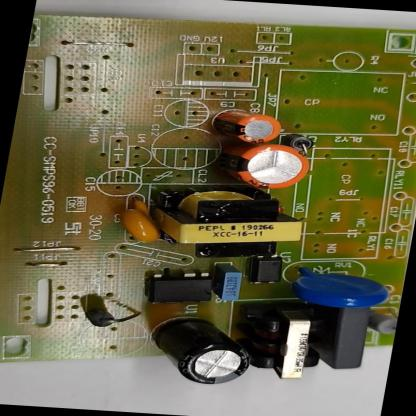Cap1: (228, 142, 312, 190)
Cap2: (210, 109, 282, 142)
Cap3: (143, 315, 256, 386)
MOSFET: (147, 269, 216, 306)
Mov: (291, 266, 395, 309)
Resistor: (366, 310, 398, 336)
Transformer: (151, 186, 308, 260), (249, 313, 327, 380)
